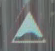Speed Breaker ahead: (7, 0, 51, 49)
